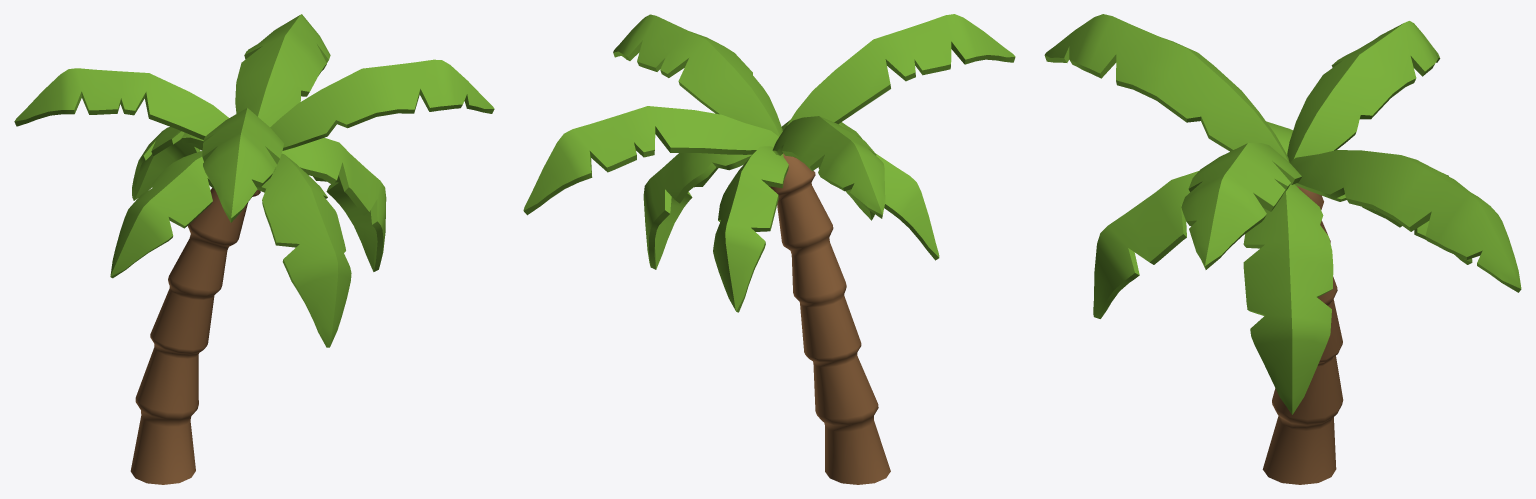
The model's file is environment_palm_tree_2.glb.
3 views of the same model, side by side, from view 1: azimuth 30°, elevation 25°; view 2: azimuth 150°, elevation 25°; view 3: azimuth 270°, elevation 25° (orthographic). The views are drawn at different scales.
Parts seen in each view (by area): view 1: Environment_PalmTree_2; view 2: Environment_PalmTree_2; view 3: Environment_PalmTree_2.
Boxes of the visible parts, bbox=[...] form: Environment_PalmTree_2: bbox=[14, 14, 494, 484]; Environment_PalmTree_2: bbox=[523, 14, 1015, 484]; Environment_PalmTree_2: bbox=[1044, 14, 1521, 484].
Size of the model in its own units: 2.64 by 2.69 by 2.58.
Materials: 1 (1 with a texture image).
